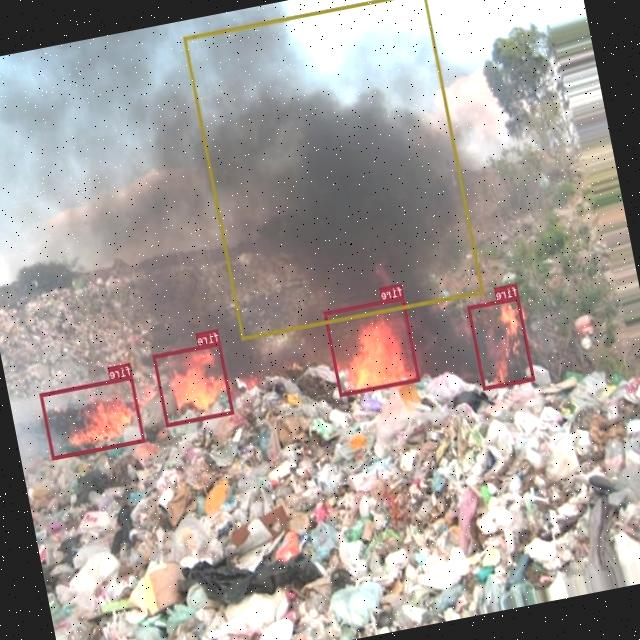fire: (324, 296, 422, 396), (40, 374, 146, 459), (153, 340, 235, 426), (468, 294, 536, 390)
smoke: (184, 0, 484, 339)
